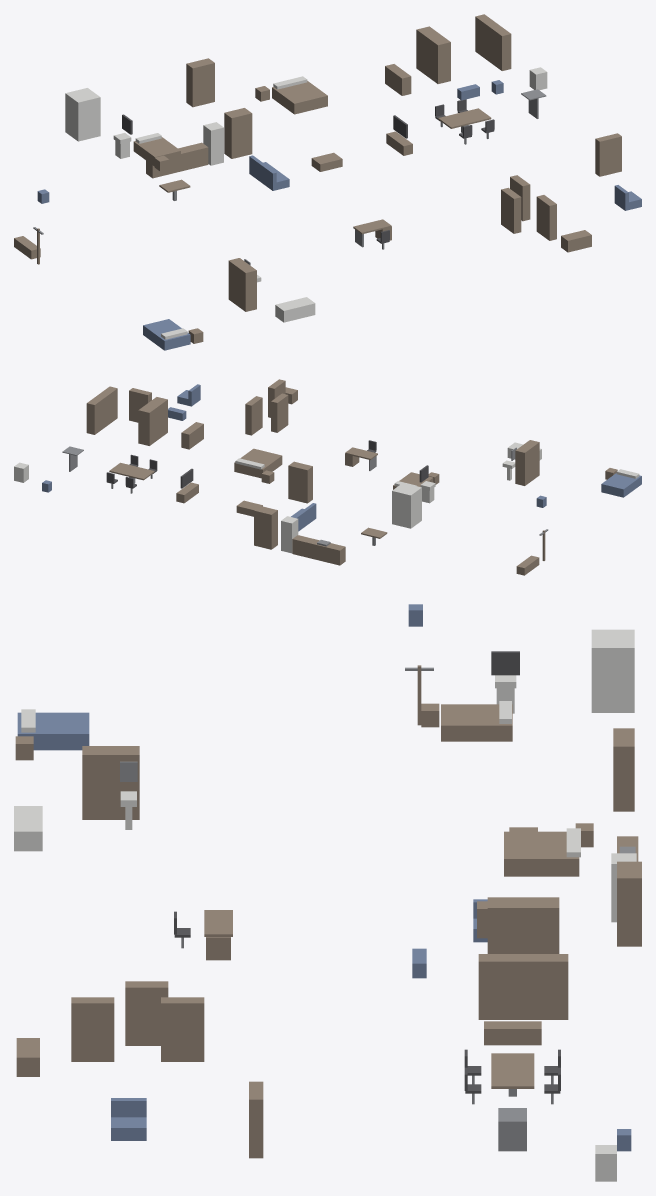
File: mobilier.glb
3 renders of one model, top to bottom at view 1: azimuth 30°, elevation 25°; view 2: azimuth 150°, elevation 25°; view 3: azimuth 270°, elevation 25°, orthographic. The views are drawn at different scales.
Visible parts, largest first — view 1: DoucheEtage-col, PenderieDressing-col, EtagereDressing-col, Penderie-col, Armoire-col, ArmoireAmis-col, LitMaitre-col, EtagereBiblioC-col, PlanTravail-col, Lit-col, Etagere-col, EtagereBiblioB-col (+8 smaller); view 2: DoucheEtage-col, PenderieDressing-col, EtagereDressing-col, PlanTravail-col, Armoire-col, Penderie-col, ArmoireAmis-col, LitMaitre-col, Lit-col, Etagere-col, EtagereBiblioA-col, Frigo-col (+6 smaller); view 3: EtagereDressing-col, PenderieDressing-col, DoucheEtage-col, Armoire-col, LitMaitre-col, EtagereBiblioA-col, EtagereBiblioB-col, LitAmis-col, Etagere-col, Lit-col, Penderie-col, ArmoireAmis-col (+8 smaller).
Part boxes in pixels (left/top/right/bottom): DoucheEtage-col: left=65, top=88, right=100, bottom=141; PenderieDressing-col: left=416, top=26, right=450, bottom=83; EtagereDressing-col: left=475, top=14, right=511, bottom=70; Penderie-col: left=224, top=108, right=252, bottom=158; Armoire-col: left=228, top=258, right=256, bottom=311; ArmoireAmis-col: left=186, top=58, right=214, bottom=107; LitMaitre-col: left=272, top=81, right=327, bottom=114; EtagereBiblioC-col: left=595, top=133, right=621, bottom=176; PlanTravail-col: left=146, top=142, right=208, bottom=178; Lit-col: left=143, top=319, right=190, bottom=350; Etagere-col: left=501, top=187, right=521, bottom=233; EtagereBiblioB-col: left=536, top=195, right=556, bottom=240; DoucheEtage-col: left=392, top=483, right=421, bottom=528; PenderieDressing-col: left=138, top=397, right=167, bottom=445; EtagereDressing-col: left=86, top=386, right=117, bottom=434; PlanTravail-col: left=292, top=535, right=345, bottom=565; Armoire-col: left=515, top=440, right=539, bottom=485; Penderie-col: left=254, top=506, right=277, bottom=549; ArmoireAmis-col: left=288, top=461, right=312, bottom=503; LitMaitre-col: left=234, top=448, right=282, bottom=478; Lit-col: left=601, top=473, right=641, bottom=497; Etagere-col: left=271, top=393, right=288, bottom=432; EtagereBiblioA-col: left=245, top=396, right=262, bottom=435; Frigo-col: left=281, top=516, right=298, bottom=553; EtagereDressing-col: left=478, top=954, right=568, bottom=1019; PenderieDressing-col: left=487, top=897, right=559, bottom=953; DoucheEtage-col: left=591, top=629, right=634, bottom=712; Armoire-col: left=82, top=746, right=139, bottom=819; LitMaitre-col: left=504, top=831, right=579, bottom=876; EtagereBiblioA-col: left=161, top=997, right=204, bottom=1061; EtagereBiblioB-col: left=71, top=997, right=114, bottom=1061; LitAmis-col: left=441, top=704, right=512, bottom=741; Etagere-col: left=125, top=981, right=168, bottom=1045; Lit-col: left=17, top=712, right=89, bottom=750; Penderie-col: left=617, top=861, right=641, bottom=946; ArmoireAmis-col: left=613, top=728, right=634, bottom=811.
Bounding box in the file's own units: 30.2 × 5.2 × 17.5.
